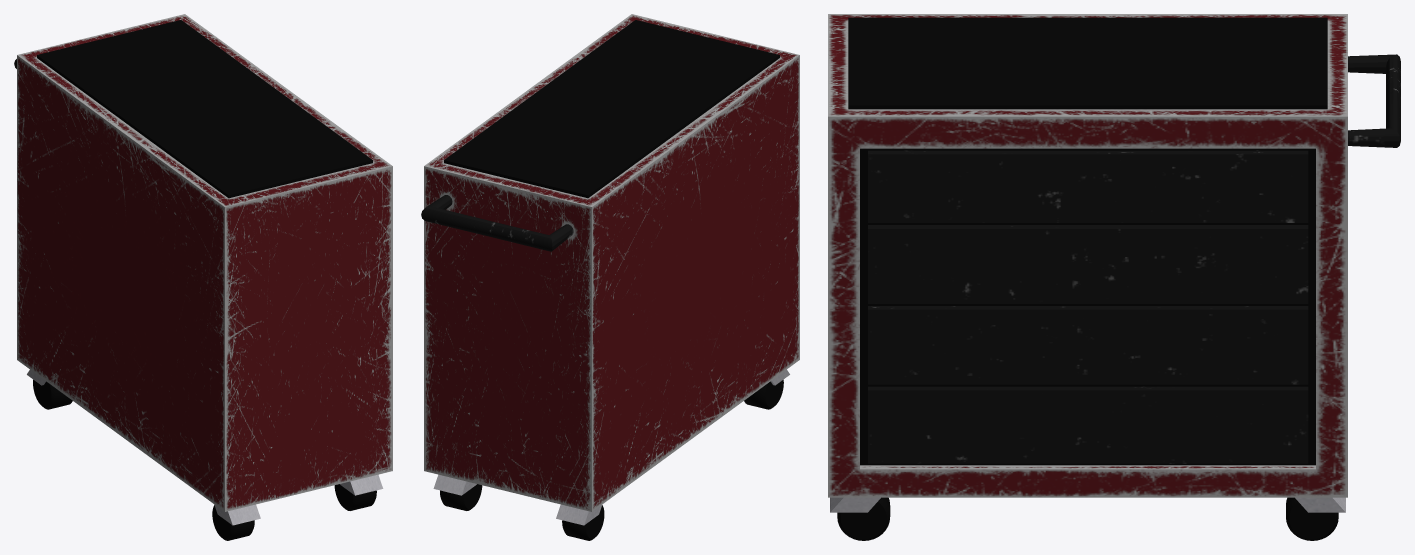
File: Elec_tool cart.fbx
3 renders of one model, left to right at view 1: azimuth 30°, elevation 25°; view 2: azimuth 150°, elevation 25°; view 3: azimuth 270°, elevation 25°, orthographic. The views are drawn at different scales.
Parts seen in each view (by area): view 1: Cube; view 2: Cube; view 3: Cube.
Part boxes in pixels (box(x1,y1,x2,y2)): Cube: box(14, 14, 392, 540); Cube: box(421, 14, 799, 540); Cube: box(828, 14, 1400, 540).
Bounding box in the file's own units: 115 × 229 × 272.
1 material, 1 textured.
